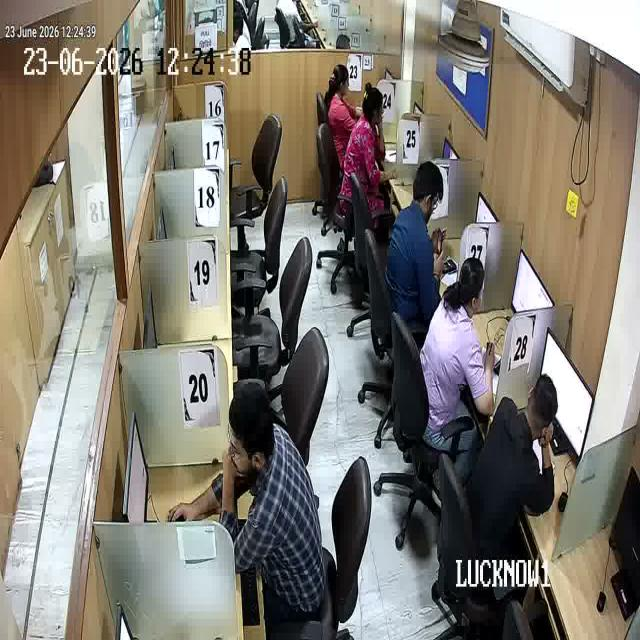phone: (434, 224, 449, 264)
